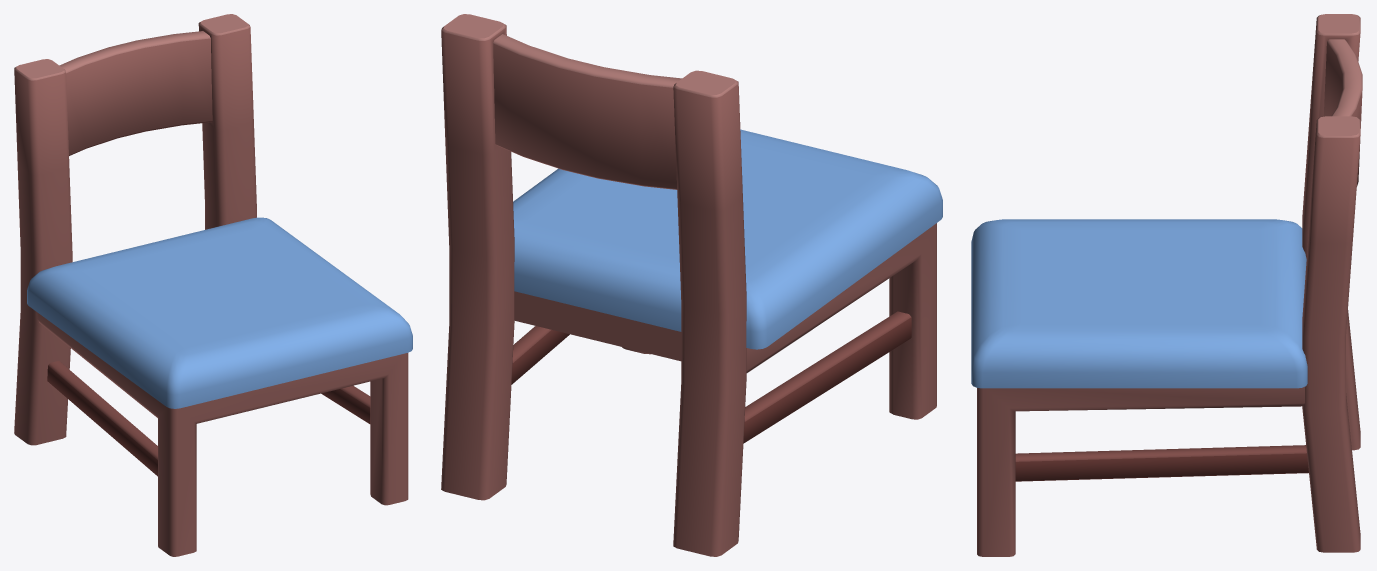
File: 3d_Chair.fbx
3 views of the same model, side by side, from view 1: azimuth 30°, elevation 25°; view 2: azimuth 150°, elevation 25°; view 3: azimuth 270°, elevation 25° (orthographic). The views are drawn at different scales.
Visible parts, largest first — view 1: 3d_Chair; view 2: 3d_Chair; view 3: 3d_Chair.
Boxes of the visible parts, x1=… form: 3d_Chair: x1=14, y1=14, x2=412, y2=556; 3d_Chair: x1=441, y1=14, x2=942, y2=556; 3d_Chair: x1=971, y1=14, x2=1362, y2=556.
Bounding box in the file's own units: 0.3572 × 0.5101 × 0.4344.
